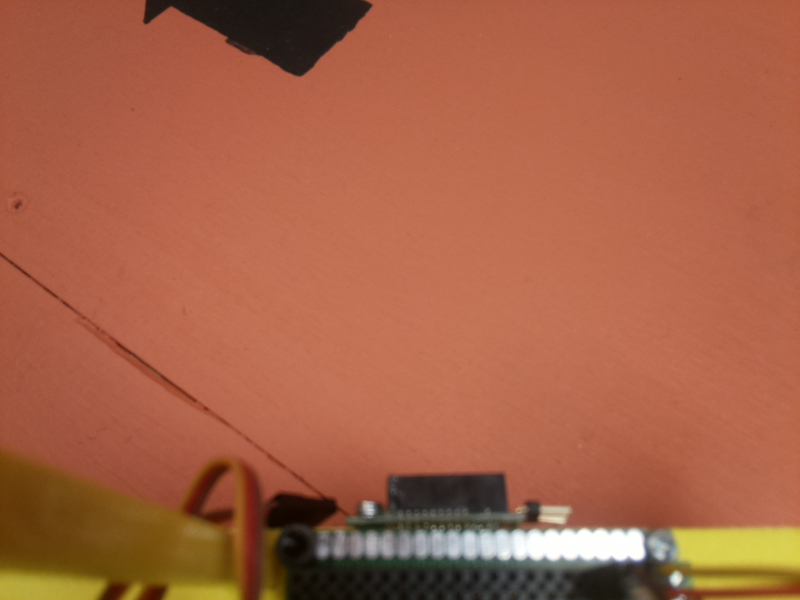start: (116, 2, 384, 77)
